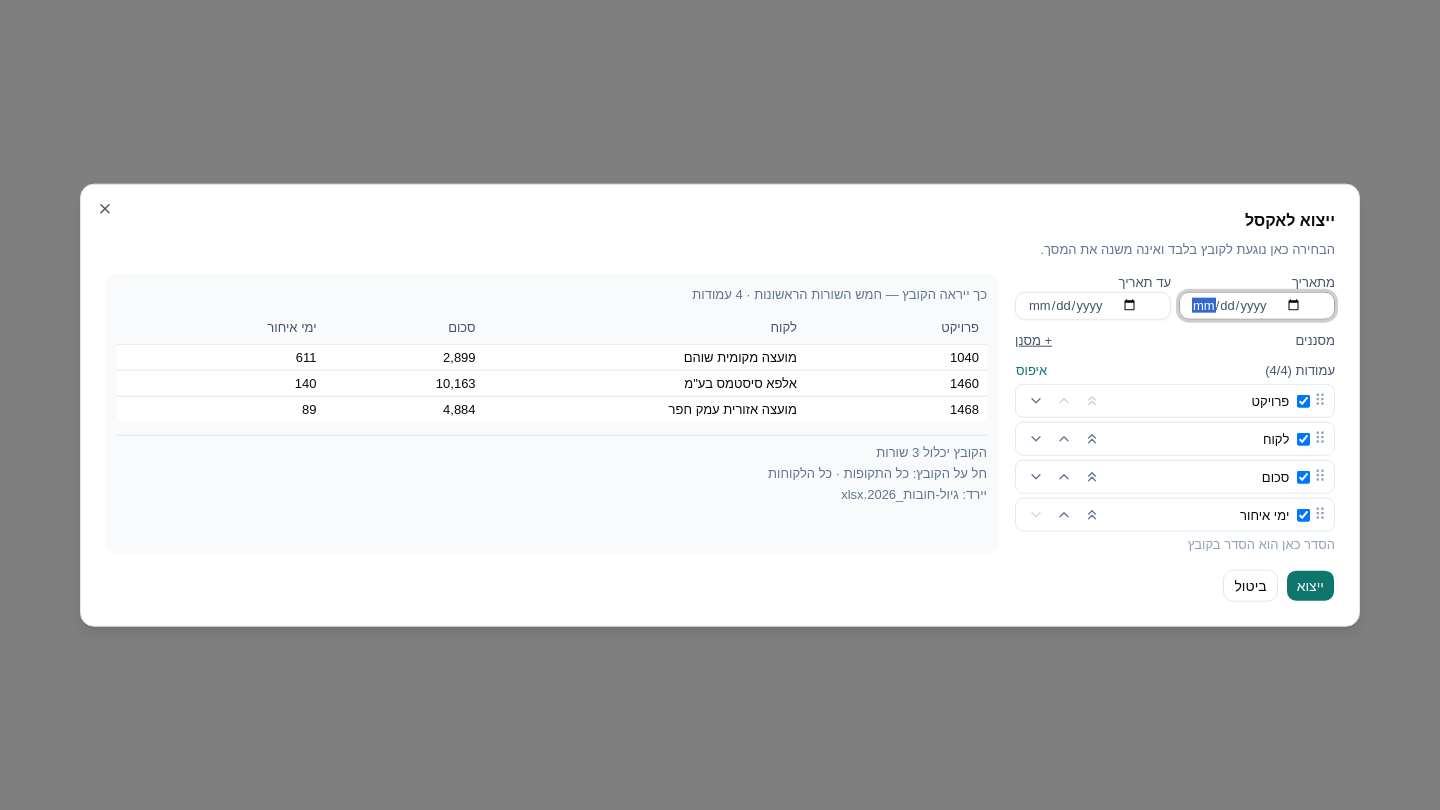
Test: ExportDialog — סינון › סינון שמרוקן — נאמר, והייצוא מנוטרל
Click the button with test id "export-add-filter" at (1034, 340), box top-left (1015, 331), bottom-right (1052, 349)
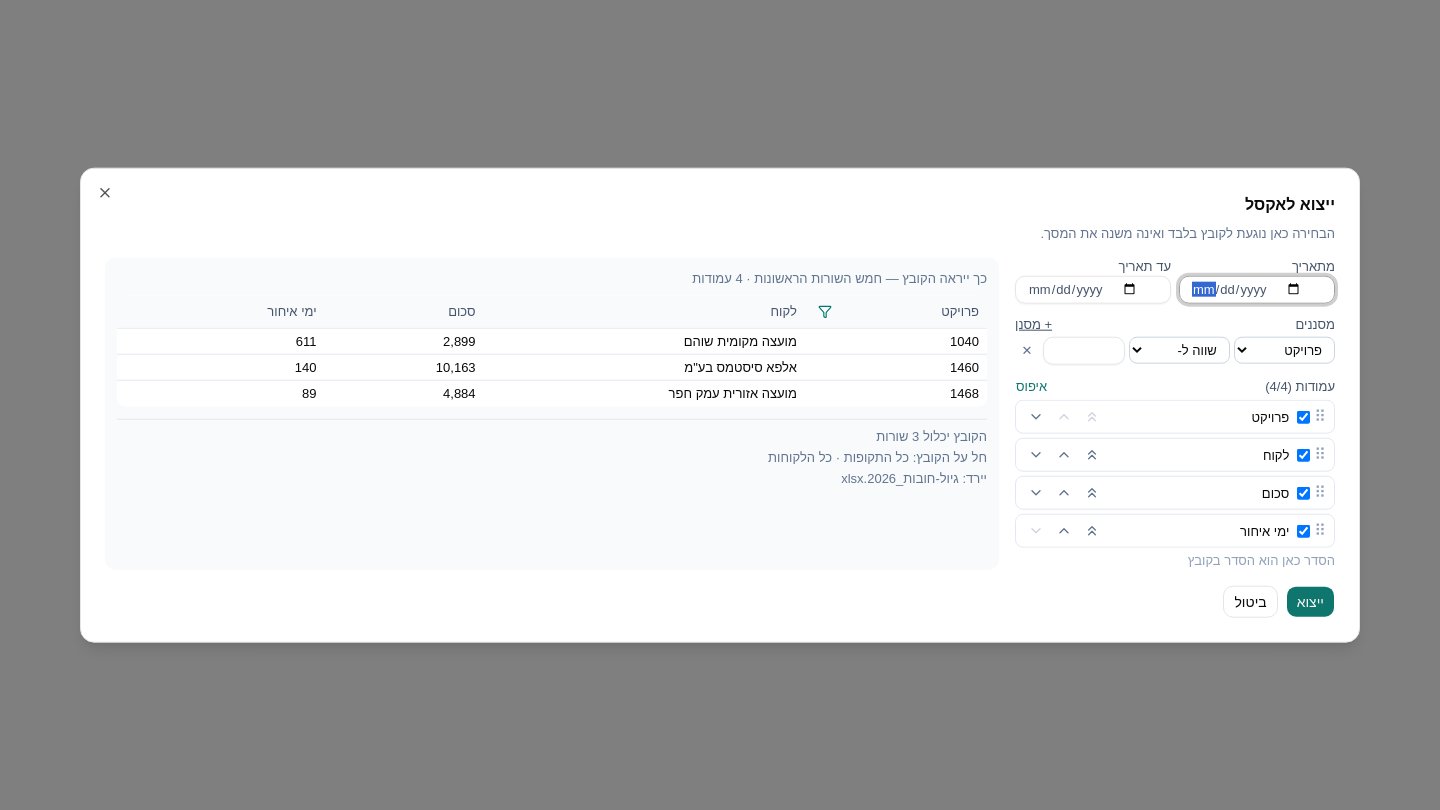
Select "ימי איחור" in the dropdown named "עמודה לסינון" at (1284, 351), box top-left (1234, 337), bottom-right (1335, 364)
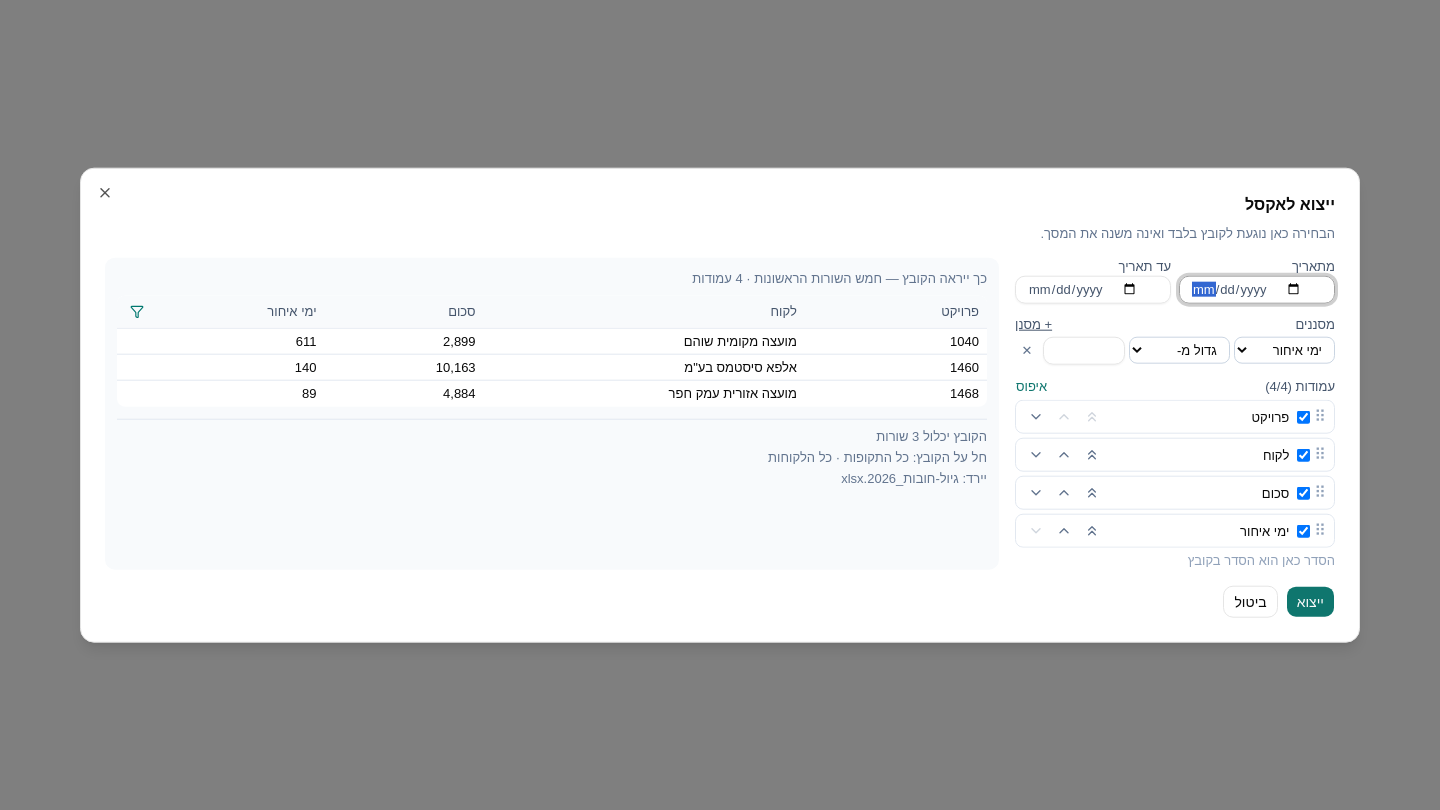
Select "גדול מ-" in the dropdown named "תנאי" at (1179, 351), box top-left (1128, 337), bottom-right (1230, 364)
Type "9999" into the field named "ערך" at (1084, 351), box top-left (1043, 337), bottom-right (1124, 365)
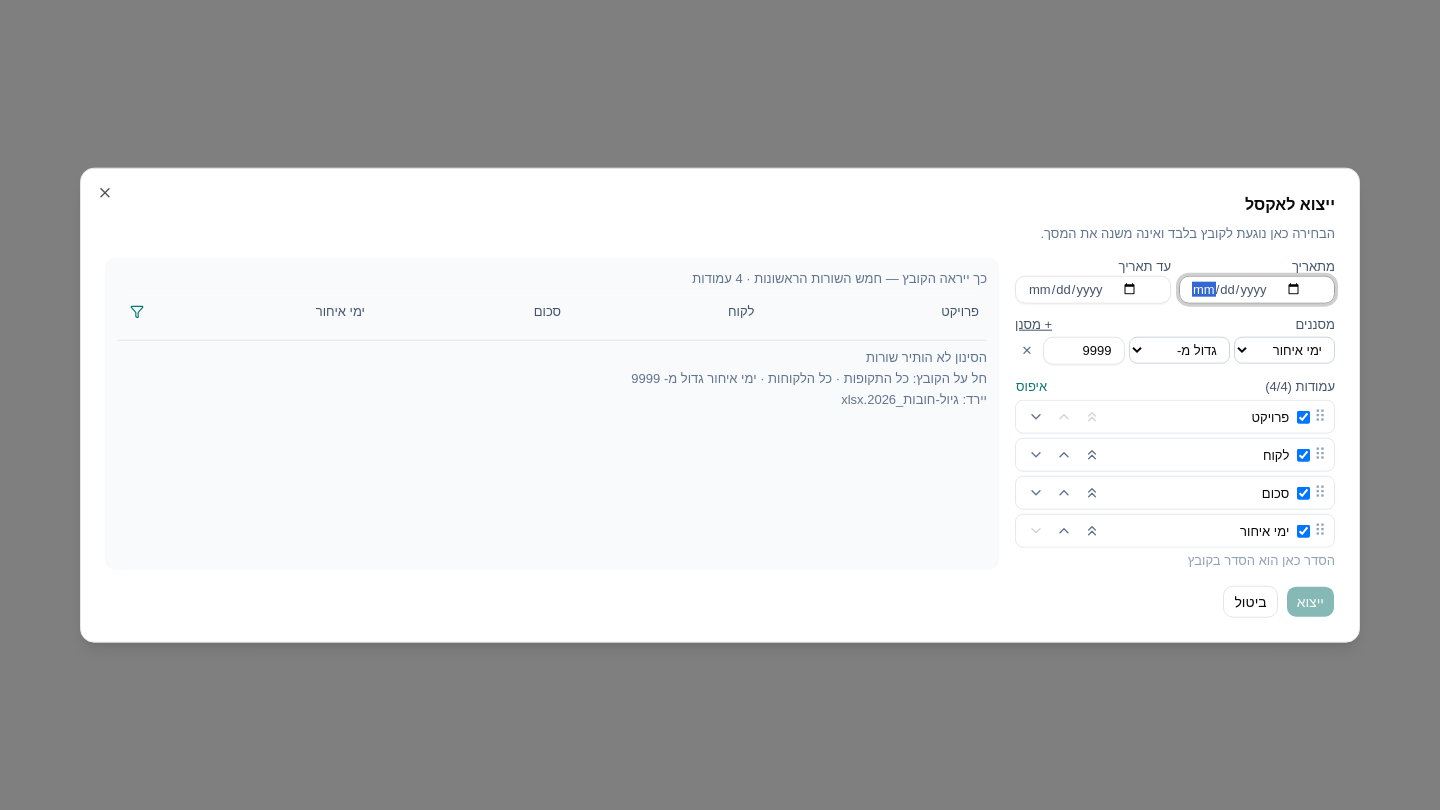
Result: the text with test id "export-count" reads "הסינון לא הותיר שורות" at top-left (866, 349), bottom-right (987, 364)
Result: the button with test id "export-dialog-run" is disabled at top-left (1286, 585), bottom-right (1335, 617)
